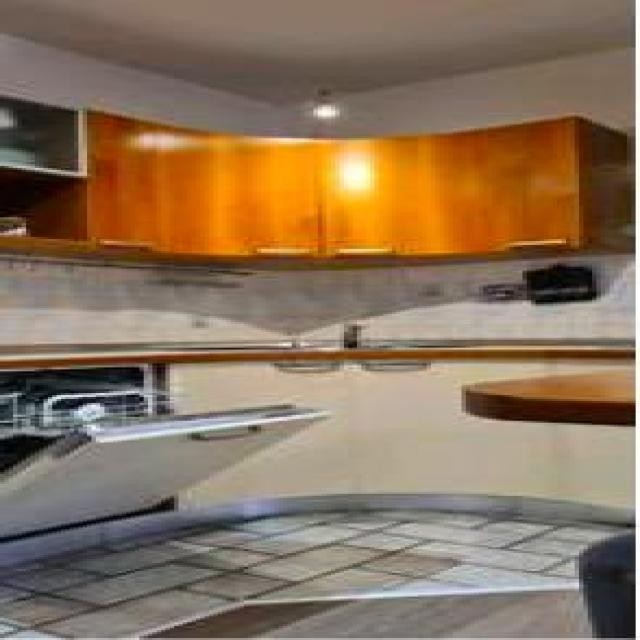dishwasher: (0, 357, 313, 541)
